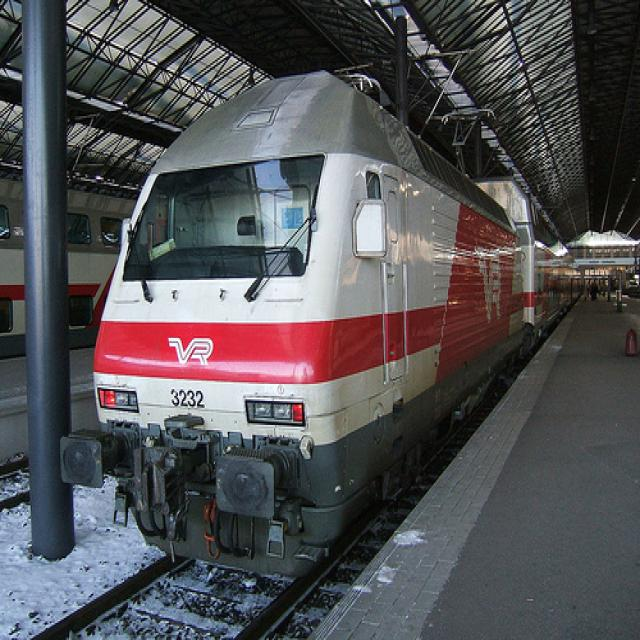train: (57, 71, 582, 583)
